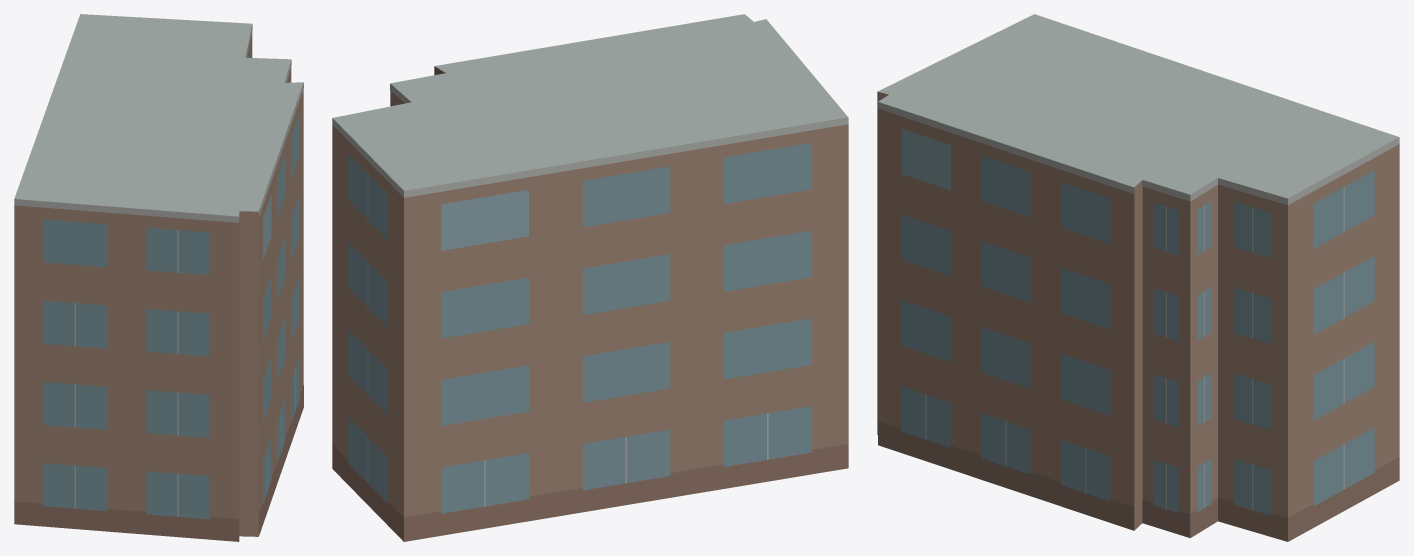
The model's file is survey-upis-32845007.glb.
The picture shows the model from 3 angles, left to right: view 1: azimuth 30°, elevation 25°; view 2: azimuth 150°, elevation 25°; view 3: azimuth 270°, elevation 25°; orthographic projection. The views are drawn at different scales.
Parts seen in each view (by area): view 1: survey-upis-32845007.tmp; view 2: survey-upis-32845007.tmp; view 3: survey-upis-32845007.tmp.
Part boxes in pixels (x1=…): survey-upis-32845007.tmp: x1=14, y1=14, x2=303, y2=541; survey-upis-32845007.tmp: x1=332, y1=14, x2=848, y2=541; survey-upis-32845007.tmp: x1=877, y1=14, x2=1399, y2=541.
Bounding box in the file's own units: 14.38 × 12.46 × 17.19.
